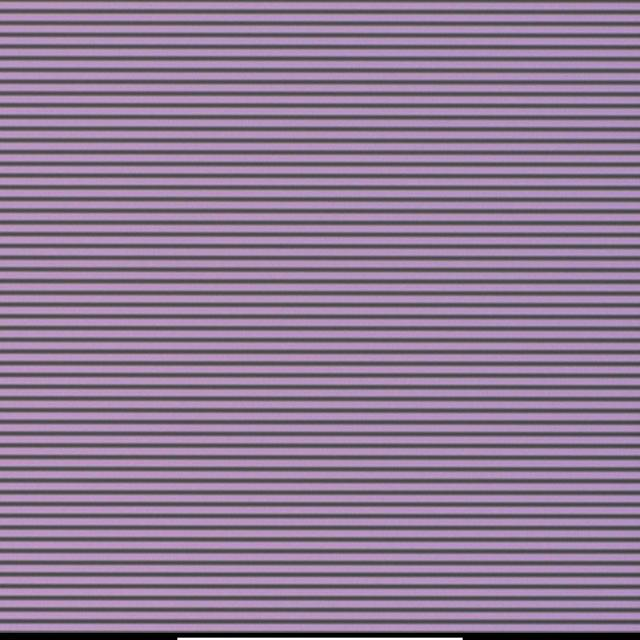nonvisual: (344, 328, 349, 336)
